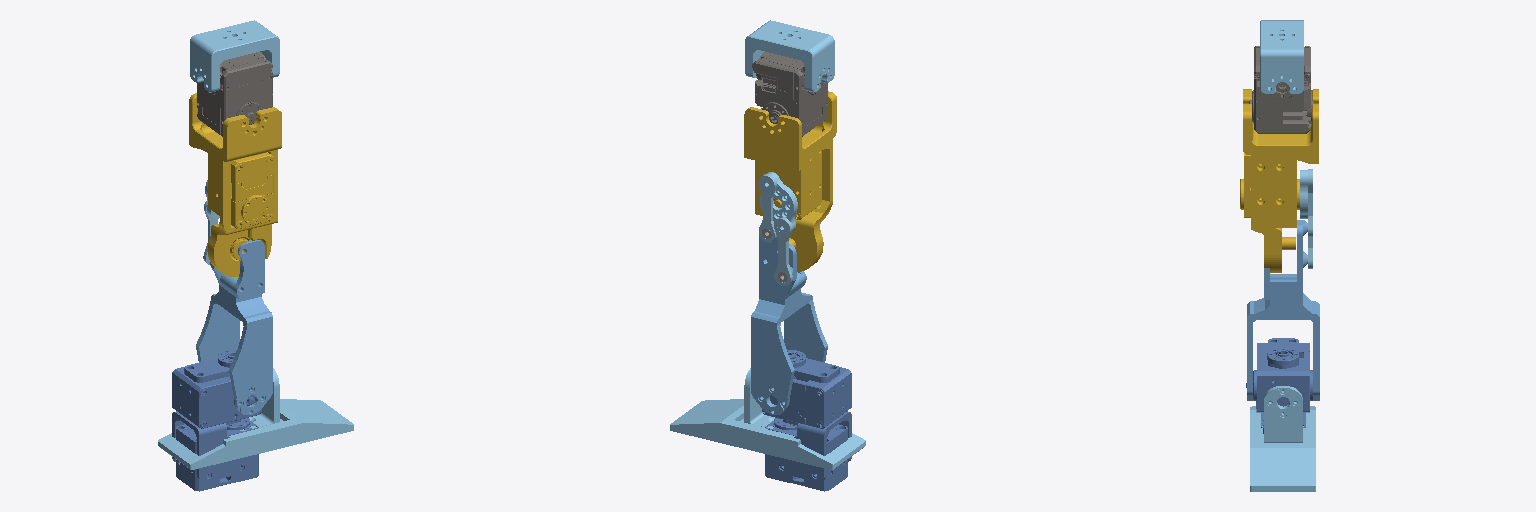
The robot description file, URDF, robot "right_leg_OP3":
<?xml version="1.0" ?><robot name="right_leg_OP3">  
  <link name="hip_yaw_link">    
    <visual>      
      <origin xyz="0 0 0" rpy="0 -0 0"/>      
      <geometry>        
        <mesh filename="package:///meshes/right_hip_yaw_link_visual.stl"/>        
      </geometry>      
      <material name="hip_yaw_link_material">        
        <color rgba="0.61568627450980395466 0.81176470588235294379 0.92941176470588238168 1.0"/>        
      </material>      
    </visual>    
    <collision>      
      <origin xyz="0 0 0" rpy="0 -0 0"/>      
      <geometry>        
        <mesh filename="package:///meshes/right_hip_yaw_link_collision.stl"/>        
      </geometry>      
    </collision>    
    <inertial>      
      <origin xyz="5.0317609858570523212e-19 1.2926900508687134748e-19 -0.0098919667346054444834" rpy="0 0 0"/>      
      <mass value="0.017999999999999991701"/>      
      <inertia ixx="2.6483505271519531846e-06" ixy="0" ixz="0" iyy="7.705535799600823457e-06" iyz="0" izz="7.773668280680534143e-06"/>      
    </inertial>    
  </link>  

  <link name="hip_roll_link">    
    <visual>      
      <origin xyz="0 0 0" rpy="0 -0 0"/>      
      <geometry>        
        <mesh filename="package:///meshes/right_hip_roll_link_visual.stl"/>        
      </geometry>      
      <material name="hip_roll_link_material">        
        <color rgba="0.51698661238356058423 0.5034781595109349972 0.49050589017722023844 1.0"/>        
      </material>      
    </visual>    
    <collision>      
      <origin xyz="0 0 0" rpy="0 -0 0"/>      
      <geometry>        
        <mesh filename="package:///meshes/right_hip_roll_link_collision.stl"/>        
      </geometry>      
    </collision>    
    <inertial>      
      <origin xyz="-0.011999849582184064778 -0.00049598090794076004229 -0.018504111838597528394" rpy="0 0 0"/>      
      <mass value="0.11059999999836234164"/>      
      <inertia ixx="2.2818802599018411705e-05" ixy="-4.6520143285804386253e-08" ixz="-4.6888548259794082767e-08" iyy="3.0871632082338458568e-05" iyz="-5.7477343899718413041e-07" izz="3.0871666424468855328e-05"/>      
    </inertial>    
  </link>  

  <link name="right_hip_pitch_link_xm430">    
    <visual>      
      <origin xyz="0 0 0" rpy="0 -0 0"/>      
      <geometry>        
        <mesh filename="package:///meshes/right_hip_pitch_link_xm430_visual.stl"/>        
      </geometry>      
      <material name="right_hip_pitch_link_xm430_material">        
        <color rgba="0.87072221357329560032 0.72641010956094276274 0.24785169615220692396 1.0"/>        
      </material>      
    </visual>    
    <collision>      
      <origin xyz="0 0 0" rpy="0 -0 0"/>      
      <geometry>        
        <mesh filename="package:///meshes/right_hip_pitch_link_xm430_collision.stl"/>        
      </geometry>      
    </collision>    
    <inertial>      
      <origin xyz="0.00075715881371278168869 -0.050714784778880625526 -0.01265615362012198486" rpy="0 0 0"/>      
      <mass value="0.11480090135030569798"/>      
      <inertia ixx="6.6072786489385418578e-05" ixy="4.6010682906016040293e-07" ixz="1.8171597853316619593e-07" iyy="2.3633665181582011786e-05" iyz="1.4125296519935106868e-06" izz="6.2221763055418302787e-05"/>      
    </inertial>    
  </link>  

  <link name="right_calf_link">    
    <visual>      
      <origin xyz="0 0 0" rpy="0 -0 0"/>      
      <geometry>        
        <mesh filename="package:///meshes/right_calf_link_visual.stl"/>        
      </geometry>      
      <material name="right_calf_link_material">        
        <color rgba="0.522707147375079062 0.70740037950664136357 0.87533206831119547697 1.0"/>        
      </material>      
    </visual>    
    <collision>      
      <origin xyz="0 0 0" rpy="0 -0 0"/>      
      <geometry>        
        <mesh filename="package:///meshes/right_calf_link_collision.stl"/>        
      </geometry>      
    </collision>    
    <inertial>      
      <origin xyz="-0.0044523204300165337283 0.040710500523439663301 -0.0093961650094225614149" rpy="0 0 0"/>      
      <mass value="0.03099999999999998937"/>      
      <inertia ixx="3.2664188400786587003e-05" ixy="-1.5241815987951603388e-06" ixz="1.969108326945254938e-07" iyy="7.7419254139686449729e-06" iyz="6.391747017518933381e-07" izz="2.7619943894572211219e-05"/>      
    </inertial>    
  </link>  

  <link name="bearing_683">    
    <visual>      
      <origin xyz="0 0 0" rpy="0 -0 0"/>      
      <geometry>        
        <mesh filename="package:///meshes/right_bearing_683_visual.stl"/>        
      </geometry>      
      <material name="bearing_683_material">        
        <color rgba="0.64705882352941179736 0.64705882352941179736 0.64705882352941179736 1.0"/>        
      </material>      
    </visual>    
    <collision>      
      <origin xyz="0 0 0" rpy="0 -0 0"/>      
      <geometry>        
        <mesh filename="package:///meshes/right_bearing_683_collision.stl"/>        
      </geometry>      
    </collision>    
    <inertial>      
      <origin xyz="9.7468268094077909387e-19 2.4186774283159932507e-19 -0.0015500000000000016803" rpy="0 0 0"/>      
      <mass value="0.00048694686130641793437"/>      
      <inertia ixx="2.1551456503319887385e-09" ixy="-1.008605192603736898e-27" ixz="-1.0935573393225559951e-38" iyy="2.1551456503319883249e-09" iyz="-4.9832977110102519673e-39" izz="3.5303647444715305817e-09"/>      
    </inertial>    
  </link>  

  <joint name="right_knee_front_rev_2" type="revolute">    
    <origin xyz="-0.0057402514854764195157 -0.013858192987669160079 -0.026200000000000063516" rpy="-5.1439183405559488125e-16 -2.9685331931264604348e-15 3.1359629690793391354"/>    
    <parent link="right_calf_link"/>    
    <child link="bearing_683"/>    
    <axis xyz="0 0 1"/>    
    <limit effort="1" velocity="20" lower="-6.283185307179586232" upper="6.283185307179586232"/>    
    <joint_properties friction="0.0"/>    
  </joint>  

  <link name="bearing_683_2">    
    <visual>      
      <origin xyz="0 0 0" rpy="0 -0 0"/>      
      <geometry>        
        <mesh filename="package:///meshes/right_bearing_683_2_visual.stl"/>        
      </geometry>      
      <material name="bearing_683_2_material">        
        <color rgba="0.64705882352941179736 0.64705882352941179736 0.64705882352941179736 1.0"/>        
      </material>      
    </visual>    
    <collision>      
      <origin xyz="0 0 0" rpy="0 -0 0"/>      
      <geometry>        
        <mesh filename="package:///meshes/right_bearing_683_2_collision.stl"/>        
      </geometry>      
    </collision>    
    <inertial>      
      <origin xyz="-7.6004079503603214129e-19 2.799744335846054081e-17 -0.0015499999999999982108" rpy="0 0 0"/>      
      <mass value="0.00048694686130641793437"/>      
      <inertia ixx="2.1551456503319887385e-09" ixy="-7.063165403686602894e-28" ixz="-7.8235602228308242713e-39" iyy="2.1551456503319874977e-09" iyz="3.988323221680714685e-38" izz="3.5303647444715305817e-09"/>      
    </inertial>    
  </link>  

  <joint name="right_knee_back_rev_2" type="revolute">    
    <origin xyz="0.0057402514854763960969 0.013858192987669354368 -0.026200000000000014944" rpy="2.0307557008913139329e-14 -1.7771544142448121049e-15 3.1358994637118597915"/>    
    <parent link="right_calf_link"/>    
    <child link="bearing_683_2"/>    
    <axis xyz="0 0 1"/>    
    <limit effort="1" velocity="20" lower="-6.283185307179586232" upper="6.283185307179586232"/>    
    <joint_properties friction="0.0"/>    
  </joint>  

  <link name="ank_pitch_link">    
    <visual>      
      <origin xyz="0 0 0" rpy="0 -0 0"/>      
      <geometry>        
        <mesh filename="package:///meshes/right_ank_pitch_link_visual.stl"/>        
      </geometry>      
      <material name="ank_pitch_link_material">        
        <color rgba="0.42838831031765528534 0.55128652208657225042 0.74128917770314917135 1.0"/>        
      </material>      
    </visual>    
    <collision>      
      <origin xyz="0 0 0" rpy="0 -0 0"/>      
      <geometry>        
        <mesh filename="package:///meshes/right_ank_pitch_link_collision.stl"/>        
      </geometry>      
    </collision>    
    <inertial>      
      <origin xyz="-0.012383885521089788365 0.019663604311316376649 0.018862066178908145492" rpy="0 0 0"/>      
      <mass value="0.15976376693924948524"/>      
      <inertia ixx="9.8184006245880149568e-05" ixy="1.0738445982411045295e-06" ixz="4.3555854012401220289e-08" iyy="4.2237181854197420369e-05" iyz="-4.1061630166184405181e-07" izz="0.00011168324060676199344"/>      
    </inertial>    
  </link>  

  <link name="ank_roll_link">    
    <visual>      
      <origin xyz="0 0 0" rpy="0 -0 0"/>      
      <geometry>        
        <mesh filename="package:///meshes/right_ank_roll_link_visual.stl"/>        
      </geometry>      
      <material name="ank_roll_link_material">        
        <color rgba="0.61568627450980395466 0.81176470588235305481 0.9294117647058824927 1.0"/>        
      </material>      
    </visual>    
    <collision>      
      <origin xyz="0 0 0" rpy="0 -0 0"/>      
      <geometry>        
        <mesh filename="package:///meshes/right_ank_roll_link_collision.stl"/>        
      </geometry>      
    </collision>    
    <inertial>      
      <origin xyz="-0.027036578607873073404 2.0295514592385940646e-12 -0.033620165726269704565" rpy="0 0 0"/>      
      <mass value="0.042599999999999998979"/>      
      <inertia ixx="3.7520823109403898181e-05" ixy="5.648313175904063284e-16" ixz="-2.4055359385054904311e-06" iyy="3.7854332370874455363e-05" iyz="5.1539486143754679281e-12" izz="1.0182523770087201153e-05"/>      
    </inertial>    
  </link>  

  <joint name="right_ank_roll" type="revolute">    
    <origin xyz="1.9151347174783950322e-15 0.022749999999999825917 0.019000000000001193018" rpy="1.5707963267949667241 3.4534200721523706957e-14 3.1415926535897917837"/>    
    <parent link="ank_pitch_link"/>    
    <child link="ank_roll_link"/>    
    <axis xyz="0 0 1"/>    
    <limit effort="1" velocity="20" lower="-1.570796326794896558" upper="1.570796326794896558"/>    
    <joint_properties friction="0.0"/>    
  </joint>  

  <joint name="right_ank_pitch" type="revolute">    
    <origin xyz="0.00050000000000040452624 0.10000000000000006106 0.0086000000000003035822" rpy="3.141592653589793116 -9.7384055572523312245e-16 1.5707963267948936714"/>    
    <parent link="right_calf_link"/>    
    <child link="ank_pitch_link"/>    
    <axis xyz="0 0 1"/>    
    <limit effort="1" velocity="20" lower="-1.7453292519943295336" upper="0.785398163397448279"/>    
    <joint_properties friction="0.0"/>    
  </joint>  

  <joint name="right_knee" type="revolute">    
    <origin xyz="6.6012271456357184538e-18 -0.095999999999999877098 -0.009199999999999972089" rpy="-9.138977281102487298e-16 5.7742659530791861042e-17 3.141592653589793116"/>    
    <parent link="right_hip_pitch_link_xm430"/>    
    <child link="right_calf_link"/>    
    <axis xyz="0 0 1"/>    
    <limit effort="1" velocity="20" lower="-2.0943951023931952626" upper="0"/>    
    <joint_properties friction="0.0"/>    
  </joint>  

  <link name="xm430_plate">    
    <visual>      
      <origin xyz="0 0 0" rpy="0 -0 0"/>      
      <geometry>        
        <mesh filename="package:///meshes/right_xm430_plate_visual.stl"/>        
      </geometry>      
      <material name="xm430_plate_material">        
        <color rgba="0.61568627450980395466 0.81176470588235283277 0.9294117647058824927 1.0"/>        
      </material>      
    </visual>    
    <collision>      
      <origin xyz="0 0 0" rpy="0 -0 0"/>      
      <geometry>        
        <mesh filename="package:///meshes/right_xm430_plate_collision.stl"/>        
      </geometry>      
    </collision>    
    <inertial>      
      <origin xyz="8.9446679230054346917e-19 4.2788250354559065454e-18 -0.0024039046431217933435" rpy="0 0 0"/>      
      <mass value="0.0026999999999999988419"/>      
      <inertia ixx="2.6720434385876688324e-07" ixy="-6.8936588702566387474e-08" ixz="-2.5953127236483238605e-36" iyy="1.2933116645363408183e-07" iyz="-2.0427625516522109671e-36" izz="3.8533537562751428679e-07"/>      
    </inertial>    
  </link>  

  <link name="knee_rod">    
    <visual>      
      <origin xyz="0 0 0" rpy="0 -0 0"/>      
      <geometry>        
        <mesh filename="package:///meshes/right_knee_rod_visual.stl"/>        
      </geometry>      
      <material name="knee_rod_material">        
        <color rgba="0.62051618944235198416 0.78640765248647581664 0.88594253031295000511 1.0"/>        
      </material>      
    </visual>    
    <collision>      
      <origin xyz="0 0 0" rpy="0 -0 0"/>      
      <geometry>        
        <mesh filename="package:///meshes/right_knee_rod_collision.stl"/>        
      </geometry>      
    </collision>    
    <inertial>      
      <origin xyz="0.014594553362682958011 3.7416799586905911664e-05 -0.0015996227373187301389" rpy="0 0 0"/>      
      <mass value="0.0031629468613064183613"/>      
      <inertia ixx="2.589592867711170848e-08" ixy="-3.1430030611629388961e-10" ixz="4.1682991868437187467e-10" iyy="6.0153261235254296022e-07" iyz="1.0686480871972224134e-12" izz="6.2266847675176395585e-07"/>      
    </inertial>    
  </link>  

  <joint name="right_knee_front_rev_1" type="revolute">    
    <origin xyz="-0.0057402514854763735455 -0.013858192987669271101 -0.0049999999999999992367" rpy="3.7594106814525390121e-15 -6.9096598398549006487e-16 1.5651666422844430215"/>    
    <parent link="xm430_plate"/>    
    <child link="knee_rod"/>    
    <axis xyz="0 0 1"/>    
    <limit effort="1" velocity="20" lower="-6.283185307179586232" upper="6.283185307179586232"/>    
    <joint_properties friction="0.0"/>    
  </joint>  

  <link name="knee_rod_2">    
    <visual>      
      <origin xyz="0 0 0" rpy="0 -0 0"/>      
      <geometry>        
        <mesh filename="package:///meshes/right_knee_rod_2_visual.stl"/>        
      </geometry>      
      <material name="knee_rod_2_material">        
        <color rgba="0.62051618944235198416 0.78640765248647581664 0.88594253031295000511 1.0"/>        
      </material>      
    </visual>    
    <collision>      
      <origin xyz="0 0 0" rpy="0 -0 0"/>      
      <geometry>        
        <mesh filename="package:///meshes/right_knee_rod_2_collision.stl"/>        
      </geometry>      
    </collision>    
    <inertial>      
      <origin xyz="0.014594550927656917833 3.9270448462004343537e-05 -0.0015996227373180189023" rpy="0 0 0"/>      
      <mass value="0.0031629468613064183613"/>      
      <inertia ixx="2.5896010493062238455e-08" ixy="-3.2987086147587118383e-10" ixz="4.1682984914096585179e-10" iyy="6.0153257144418870589e-07" iyz="1.1215895049805158445e-12" izz="6.2266851765936265679e-07"/>      
    </inertial>    
  </link>  

  <joint name="right_knee_back_rev_1" type="revolute">    
    <origin xyz="0.0057402514854763666066 0.01385819298766934049 -0.005000000000000016584" rpy="-5.9721322899995738745e-15 2.1763425120495147882e-14 1.5651031369169621232"/>    
    <parent link="xm430_plate"/>    
    <child link="knee_rod_2"/>    
    <axis xyz="0 0 1"/>    
    <limit effort="1" velocity="20" lower="-6.283185307179586232" upper="6.283185307179586232"/>    
    <joint_properties friction="0.0"/>    
  </joint>  

  <joint name="right_knee_act" type="revolute">    
    <origin xyz="0.00015000000000000958205 -0.061499999999999971356 -0.030399999999999996469" rpy="1.8480226030005917304e-16 2.0301725913858999669e-15 3.1415926535897922278"/>    
    <parent link="right_hip_pitch_link_xm430"/>    
    <child link="xm430_plate"/>    
    <axis xyz="0 0 1"/>    
    <limit effort="1" velocity="20" lower="-2.0943951023931952626" upper="0"/>    
    <joint_properties friction="0.0"/>    
  </joint>  

  <joint name="right_hip_pitch" type="revolute">    
    <origin xyz="-0.024000000716147704138 -0.019000000152441253592 -0.01900000015245582527" rpy="1.570796326795185216 1.5707963267947977481 0"/>    
    <parent link="hip_roll_link"/>    
    <child link="right_hip_pitch_link_xm430"/>    
    <axis xyz="0 0 1"/>    
    <limit effort="1" velocity="20" lower="-1.570796326794896558" upper="1.570796326794896558"/>    
    <joint_properties friction="0.0"/>    
  </joint>  

  <joint name="right_hip_roll" type="revolute">    
    <origin xyz="-0.018999999999999999528 -1.7604701631262654893e-16 -0.025999999999999919009" rpy="-2.8481848693987683332e-20 -1.5707963267948954478 0"/>    
    <parent link="hip_yaw_link"/>    
    <child link="hip_roll_link"/>    
    <axis xyz="0 0 1"/>    
    <limit effort="1" velocity="20" lower="-0.785398163397448279" upper="0.785398163397448279"/>    
    <joint_properties friction="0.0"/>    
  </joint>  


</robot>

--- Render facts (derived) ---
The picture shows the robot from 3 angles, left to right: view 1: azimuth 30°, elevation 25°; view 2: azimuth 150°, elevation 25°; view 3: azimuth 270°, elevation 25°; orthographic projection.
Robot: right_leg_OP3 — 11 links, 10 joints (10 revolute); root link hip_yaw_link; default pose: every joint at zero.
Visible links, largest first — view 1: right_hip_pitch_link_xm430, right_calf_link, ank_pitch_link, ank_roll_link, hip_roll_link, hip_yaw_link; view 2: right_hip_pitch_link_xm430, right_calf_link, ank_pitch_link, ank_roll_link, hip_roll_link, hip_yaw_link, knee_rod_2, xm430_plate, knee_rod; view 3: right_hip_pitch_link_xm430, ank_roll_link, right_calf_link, ank_pitch_link, hip_roll_link, hip_yaw_link.
Link boxes in pixels (box(x1,y1,x2,y2)): right_hip_pitch_link_xm430: box(189, 93, 281, 276); right_calf_link: box(196, 240, 272, 414); ank_pitch_link: box(172, 350, 261, 491); ank_roll_link: box(158, 368, 353, 469); hip_roll_link: box(197, 52, 272, 136); hip_yaw_link: box(190, 20, 279, 92); right_hip_pitch_link_xm430: box(744, 91, 836, 271); right_calf_link: box(751, 227, 827, 414); ank_pitch_link: box(762, 350, 851, 491); ank_roll_link: box(670, 368, 865, 469); hip_roll_link: box(752, 52, 827, 136); hip_yaw_link: box(745, 20, 834, 92); knee_rod_2: box(774, 217, 792, 285); xm430_plate: box(760, 172, 797, 230); knee_rod: box(758, 174, 776, 242); right_hip_pitch_link_xm430: box(1240, 89, 1318, 272); ank_roll_link: box(1250, 386, 1315, 491); right_calf_link: box(1247, 220, 1319, 400); ank_pitch_link: box(1246, 338, 1312, 433); hip_roll_link: box(1249, 46, 1313, 133); hip_yaw_link: box(1260, 20, 1303, 93).
Bounding box of the posed robot: 0.12 × 0.0502 × 0.3077 m (x, y, z).
Meshes: 11 distinct files referenced, 11 mesh visuals loaded (11 binary STL).